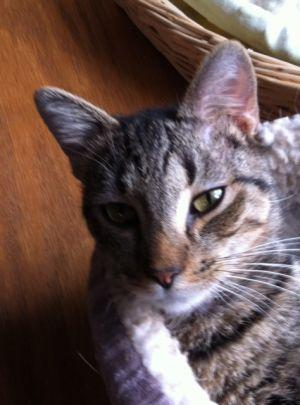bengal: (27, 35, 292, 314)
